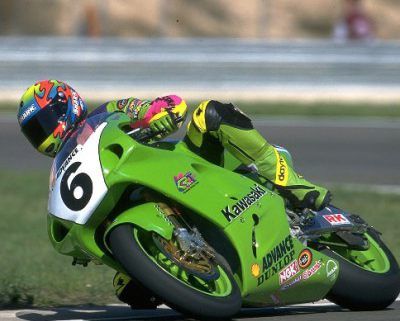helmet: (10, 72, 277, 303)
